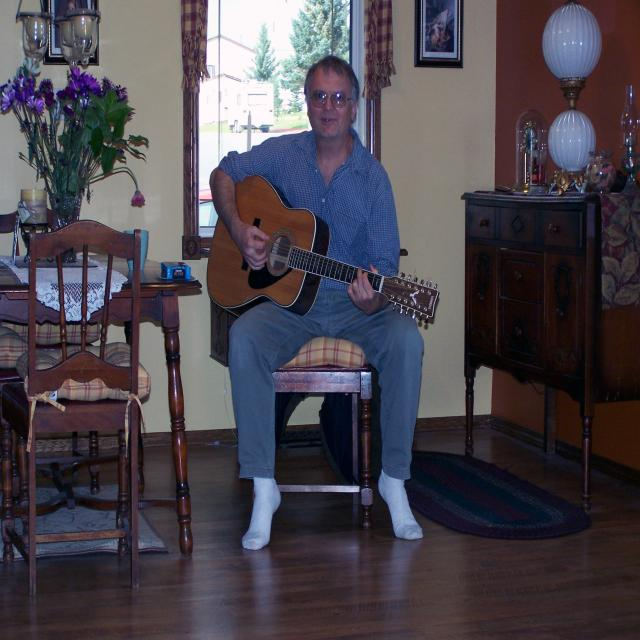guitar: (205, 172, 440, 334)
